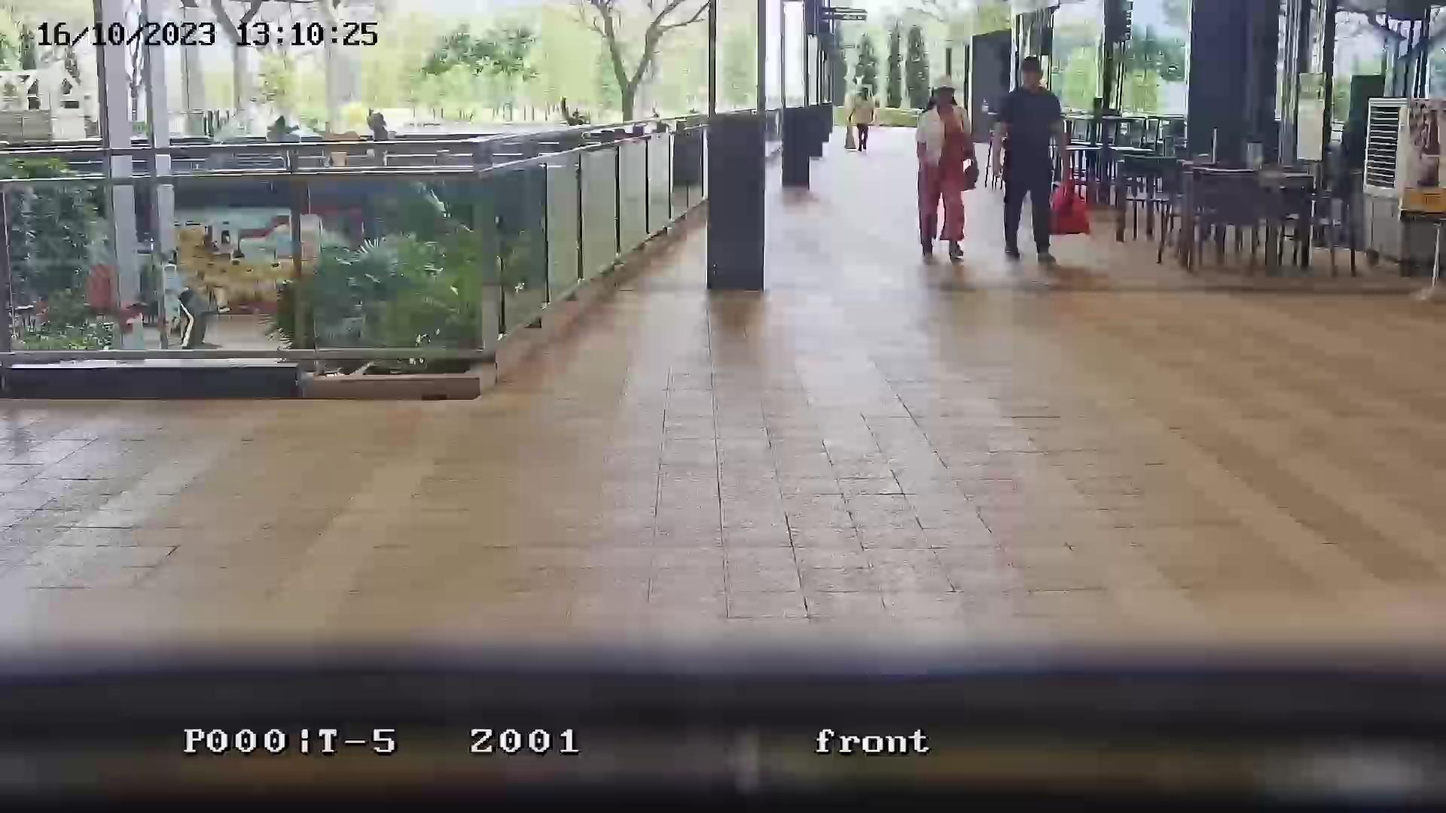person: (994, 56, 1066, 266), (914, 85, 976, 264), (846, 88, 877, 151)
